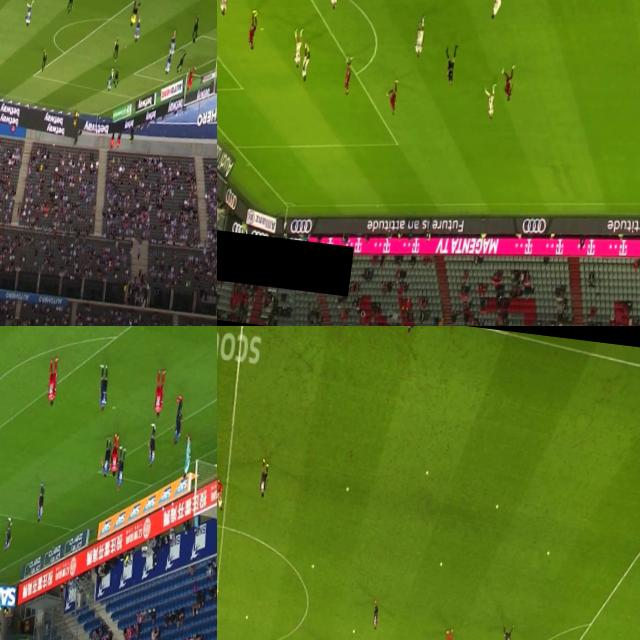ball: (438, 560, 443, 568), (244, 614, 248, 622), (545, 550, 550, 556), (350, 628, 355, 634), (310, 563, 314, 570), (494, 503, 498, 509), (424, 469, 428, 475), (344, 487, 348, 491)
player: (242, 5, 260, 54), (94, 363, 112, 412), (44, 358, 62, 404), (500, 62, 517, 105), (411, 14, 426, 58), (152, 371, 166, 418), (171, 396, 185, 443), (384, 78, 400, 116), (290, 27, 304, 70), (98, 439, 113, 478), (145, 424, 158, 469), (180, 434, 193, 479), (339, 56, 353, 95), (108, 435, 121, 475), (256, 458, 269, 498), (482, 86, 497, 120), (114, 450, 126, 492), (188, 12, 202, 46), (0, 518, 12, 555), (35, 487, 47, 524), (486, 0, 503, 25), (368, 599, 379, 630), (300, 46, 310, 80), (174, 50, 187, 76), (132, 13, 142, 46), (23, 0, 33, 30), (217, 477, 225, 510), (184, 66, 194, 92), (110, 36, 120, 62), (217, 0, 230, 20), (39, 48, 48, 75), (168, 30, 176, 58), (106, 67, 114, 94), (164, 51, 172, 75), (111, 66, 119, 90), (326, 0, 342, 12), (65, 0, 75, 19), (499, 626, 512, 640), (442, 628, 454, 640)
